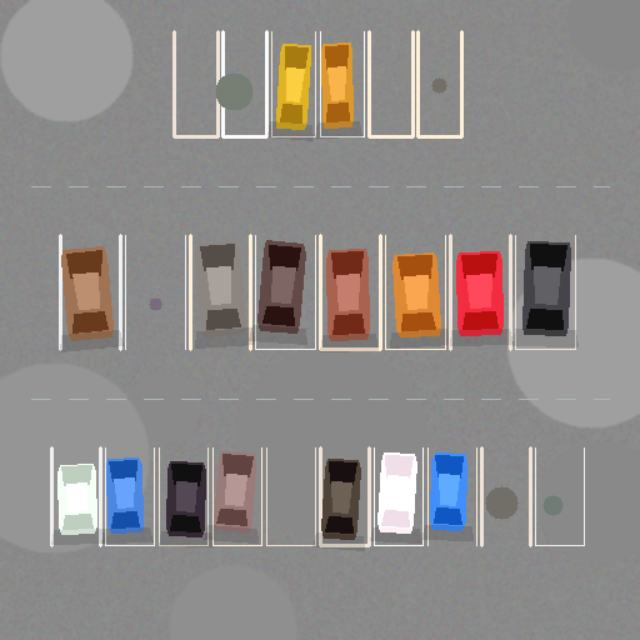space-empty: (125, 235, 185, 349), (266, 448, 315, 545), (481, 448, 530, 545), (535, 448, 584, 545), (369, 31, 413, 136), (417, 31, 461, 136), (174, 31, 217, 136), (223, 31, 266, 136)
space-occupied: (60, 235, 120, 349), (190, 235, 250, 349), (255, 235, 315, 349), (320, 235, 380, 349), (385, 235, 445, 349), (450, 235, 510, 349), (515, 235, 575, 349), (51, 448, 100, 545), (105, 448, 154, 545), (159, 448, 208, 545), (212, 448, 261, 545), (320, 448, 369, 545), (374, 448, 422, 545), (428, 448, 476, 545), (271, 31, 315, 136), (320, 31, 364, 136)
